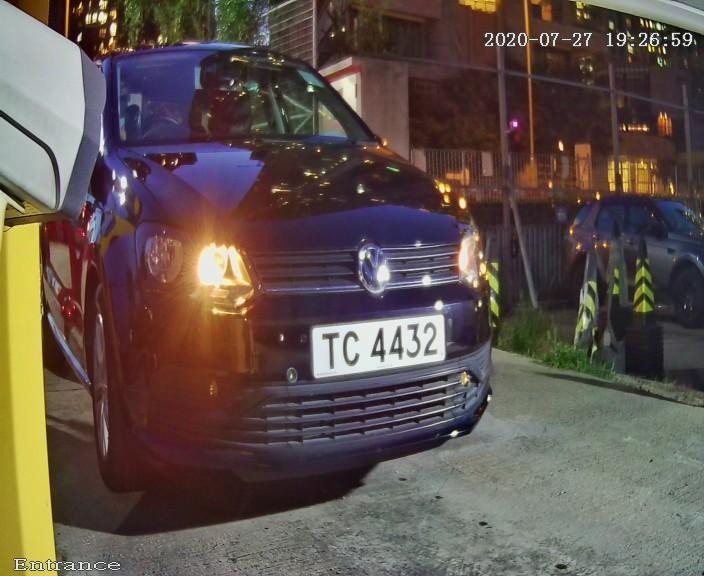privatecar: (41, 24, 513, 497)
